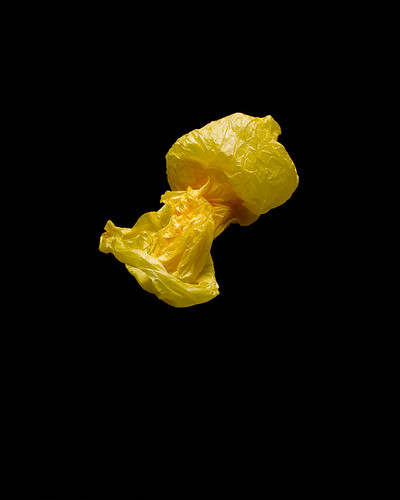plastic bag: (98, 110, 300, 308)
